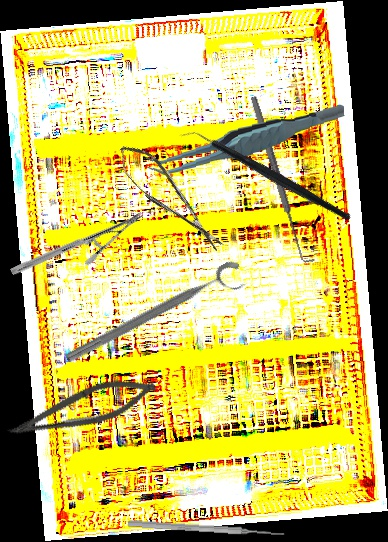Chopper: (178, 83, 352, 268)
Fixation Ring: (62, 257, 250, 378)
Hook Surgical: (247, 92, 316, 267)
Micro Scissor: (110, 135, 230, 262), (3, 364, 161, 456)
Needle Holder: (9, 170, 145, 317)
Pusher: (127, 518, 286, 540)
Tissue Forceps: (143, 104, 348, 176)
